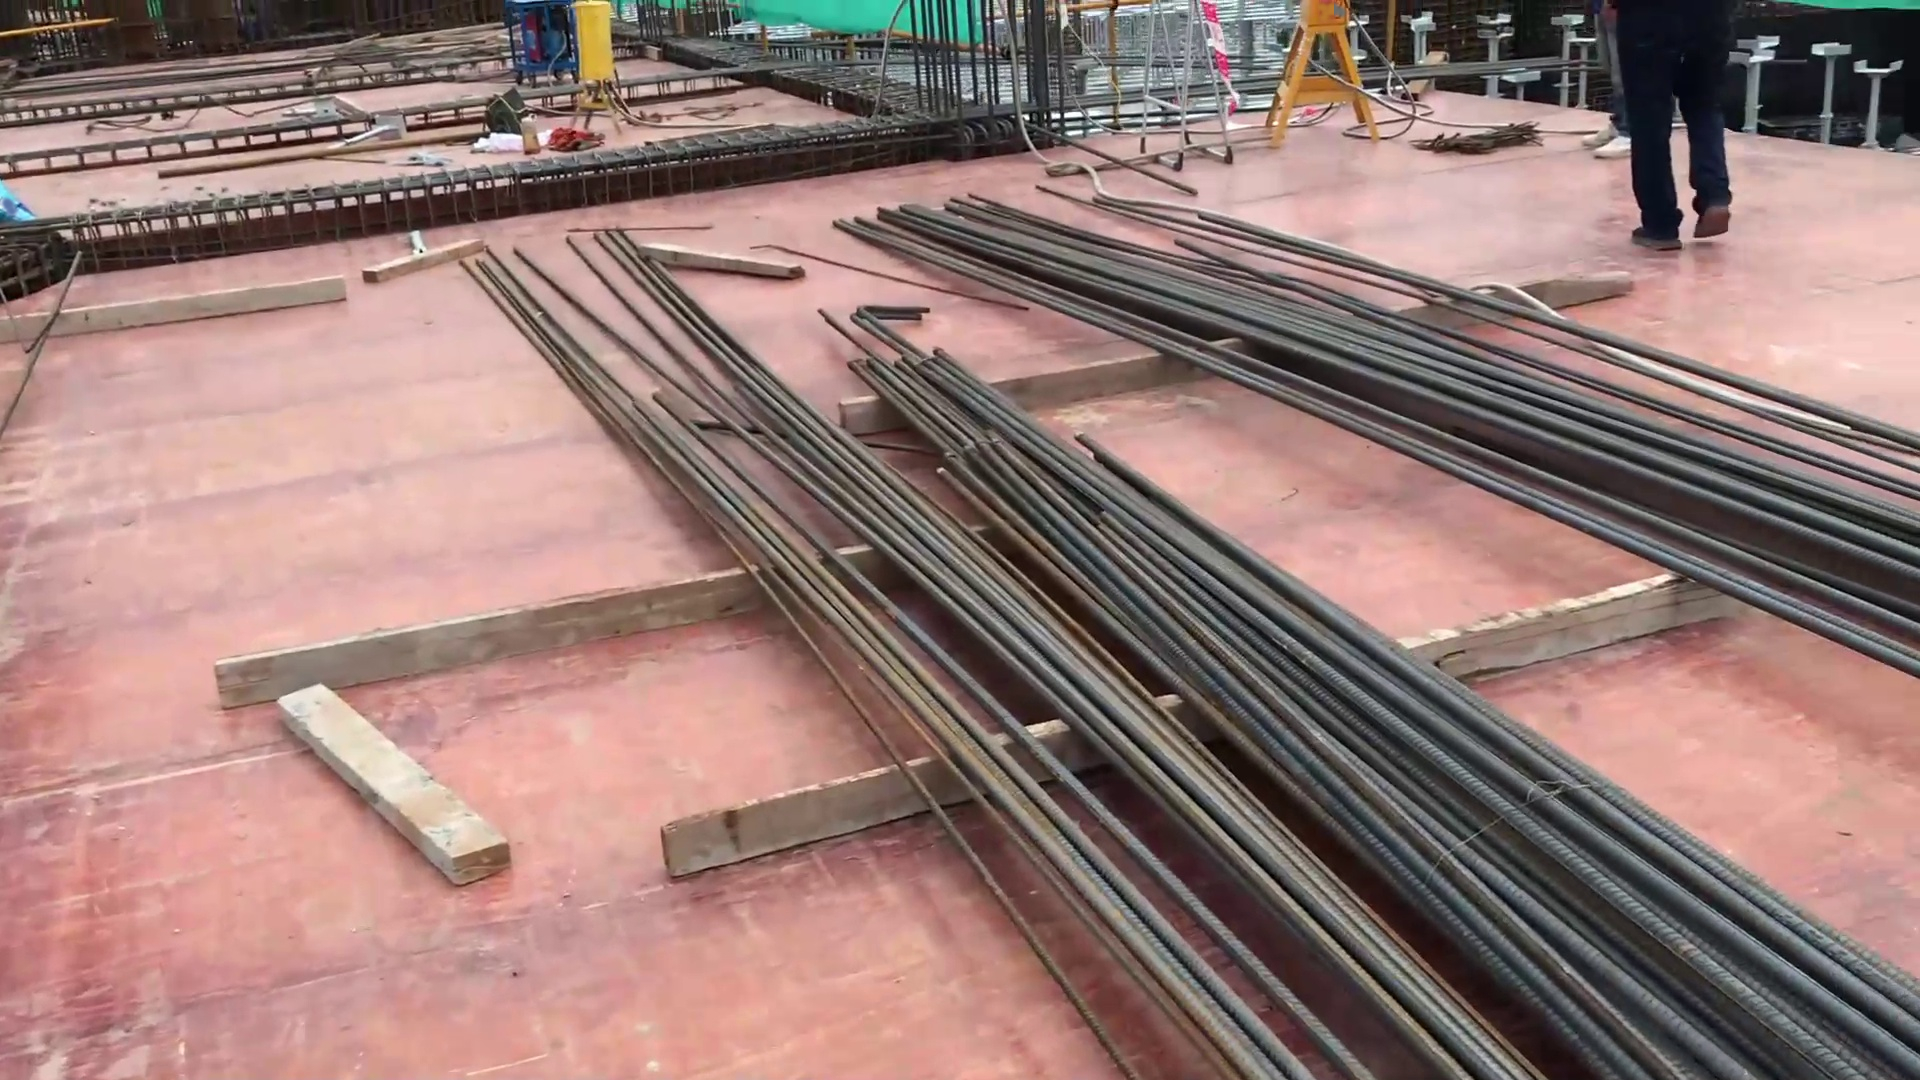ebox: (1259, 1, 1395, 146), (555, 1, 642, 131)
person: (1600, 2, 1738, 255)
rebar: (500, 207, 1920, 1080)
